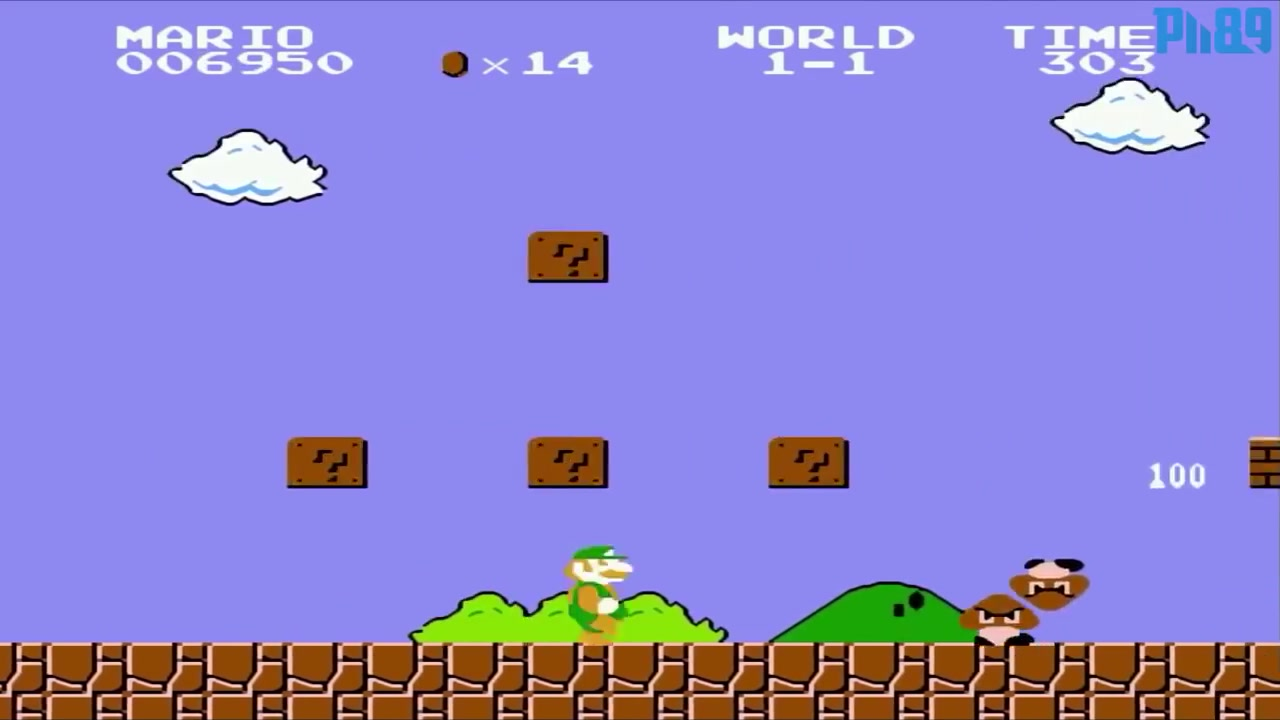mario: (549, 531, 637, 645)
